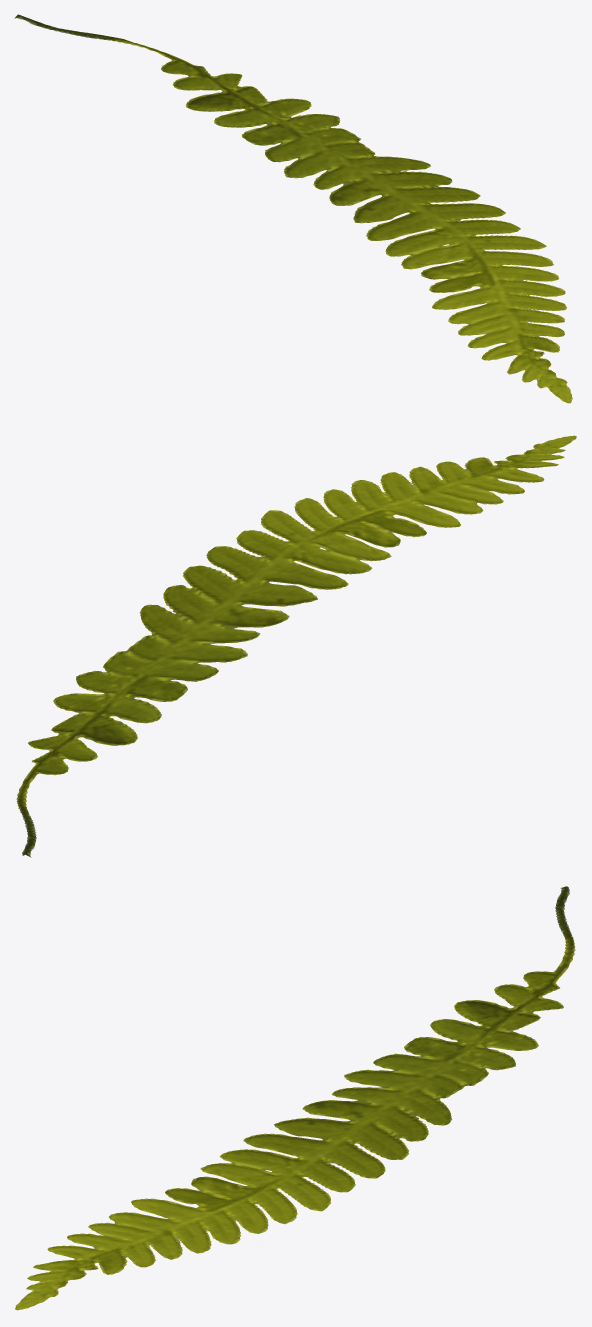
File: PNW Plant_Sword Fern_Leaf_512.glb
3 views of the same model, one above another, from view 1: azimuth 30°, elevation 25°; view 2: azimuth 150°, elevation 25°; view 3: azimuth 330°, elevation 25° (orthographic). The views are drawn at different scales.
Parts seen in each view (by area): view 1: Plant_Sword Fern_Leaf_512; view 2: Plant_Sword Fern_Leaf_512; view 3: Plant_Sword Fern_Leaf_512.
Boxes of the visible parts, left/top/right/bottom form: Plant_Sword Fern_Leaf_512: left=14, top=14, right=572, bottom=403; Plant_Sword Fern_Leaf_512: left=16, top=435, right=576, bottom=857; Plant_Sword Fern_Leaf_512: left=15, top=886, right=575, bottom=1310.
Bounding box in the file's own units: 0.2996 × 0.0251 × 1.58.
Materials: 1 (1 with a texture image).
